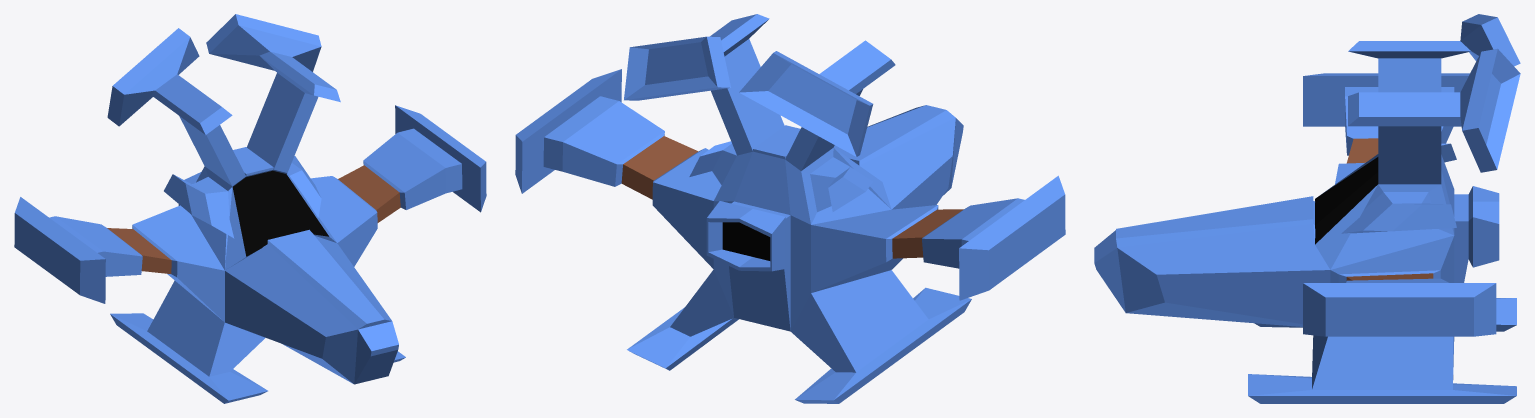
File: ExpiremitalRaptor.fbx
The picture shows the model from 3 angles, left to right: view 1: azimuth 30°, elevation 25°; view 2: azimuth 150°, elevation 25°; view 3: azimuth 270°, elevation 25°; orthographic projection. The views are drawn at different scales.
Visible parts, largest first — view 1: ExpiremitalRaptor; view 2: ExpiremitalRaptor; view 3: ExpiremitalRaptor.
Boxes of the visible parts, x1,y1,x2,y2 form: ExpiremitalRaptor: (14,14,486,403); ExpiremitalRaptor: (515,14,1065,403); ExpiremitalRaptor: (1094,14,1520,403).
Bounding box in the file's own units: 9.72 × 6.67 × 7.8.
